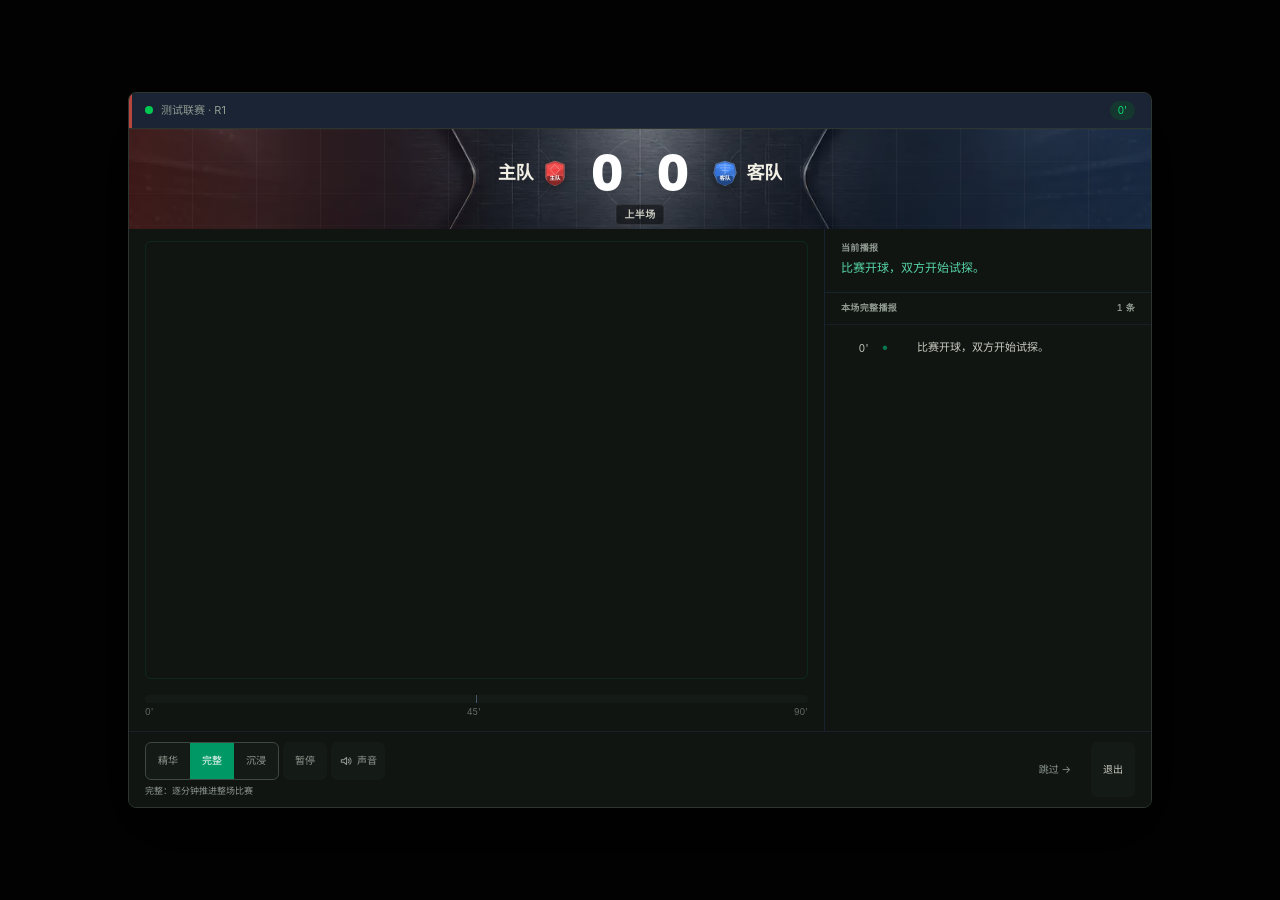
Test: MatchLive playback state machine › keeps the complete commentary history without truncating ordinary broadcasts
Click the button "跳过 →" at (1055, 770), box [1027,742,1083,797]
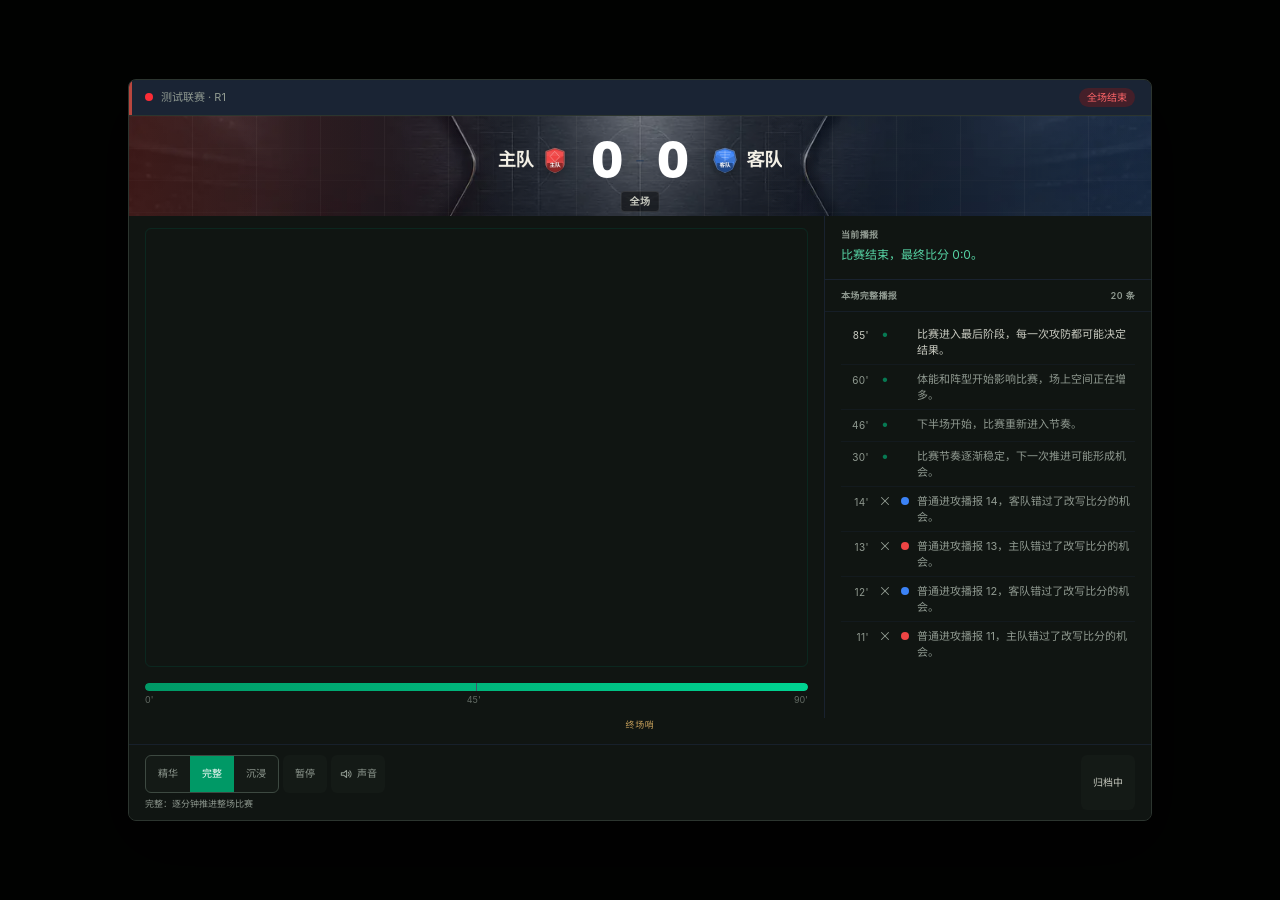
Check: the text "普通进攻播报 1" is shown, box [917,494,1130,524]
Check: the text "普通进攻播报 14" is shown, box [917,494,1130,524]
